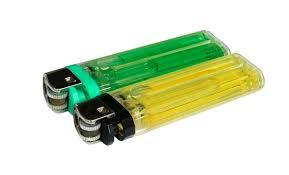lighter: (76, 51, 268, 151), (43, 31, 232, 112)
